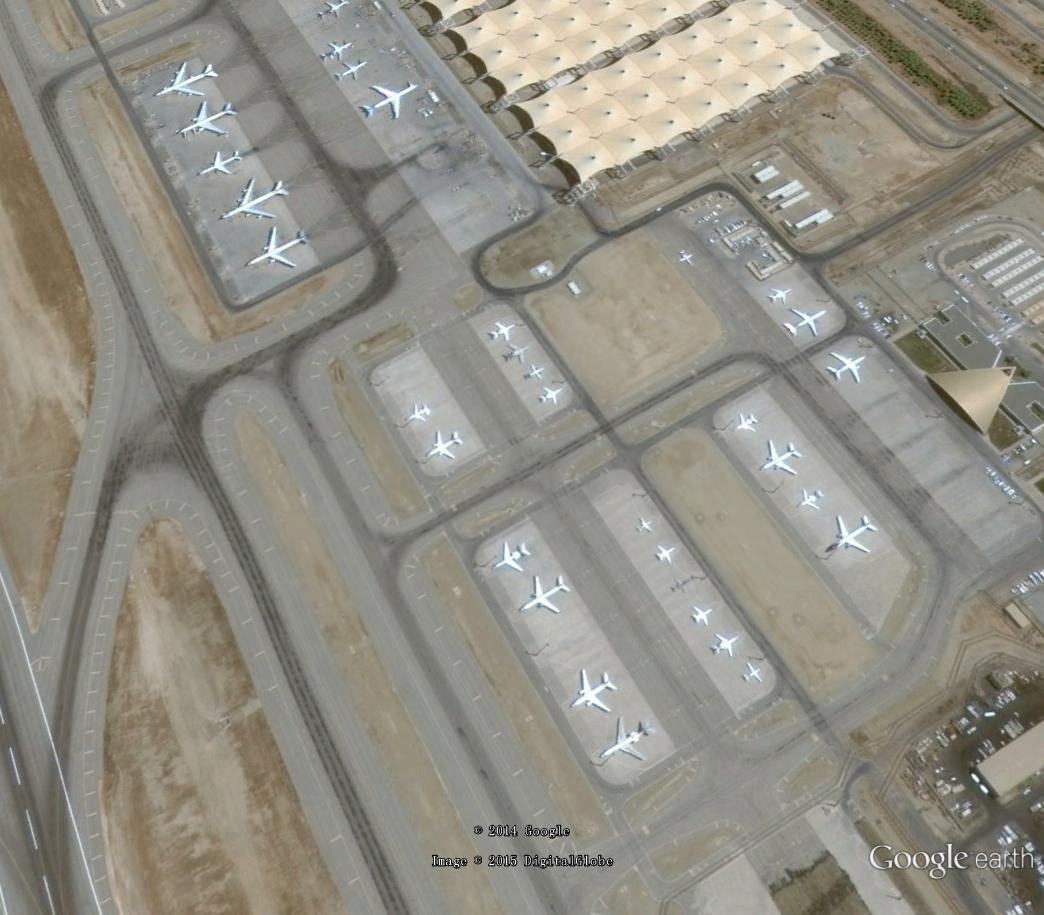aircraft: (219, 175, 303, 222), (243, 225, 318, 277), (153, 55, 225, 100), (174, 97, 247, 141), (598, 717, 663, 765), (358, 79, 421, 124), (520, 571, 576, 621), (829, 511, 886, 559), (568, 664, 619, 715), (822, 349, 870, 390), (762, 435, 805, 480), (780, 306, 832, 342), (423, 429, 471, 468), (489, 538, 534, 574), (204, 150, 249, 181), (403, 397, 438, 432), (486, 316, 523, 345), (706, 628, 739, 660), (333, 58, 373, 84), (738, 661, 768, 691), (798, 484, 828, 514), (732, 409, 763, 438), (315, 39, 355, 61), (630, 514, 661, 541), (318, 1, 354, 24), (691, 598, 715, 631), (538, 382, 568, 408), (652, 541, 678, 570), (768, 283, 796, 309), (504, 343, 534, 366), (673, 247, 697, 271), (523, 360, 547, 384)
